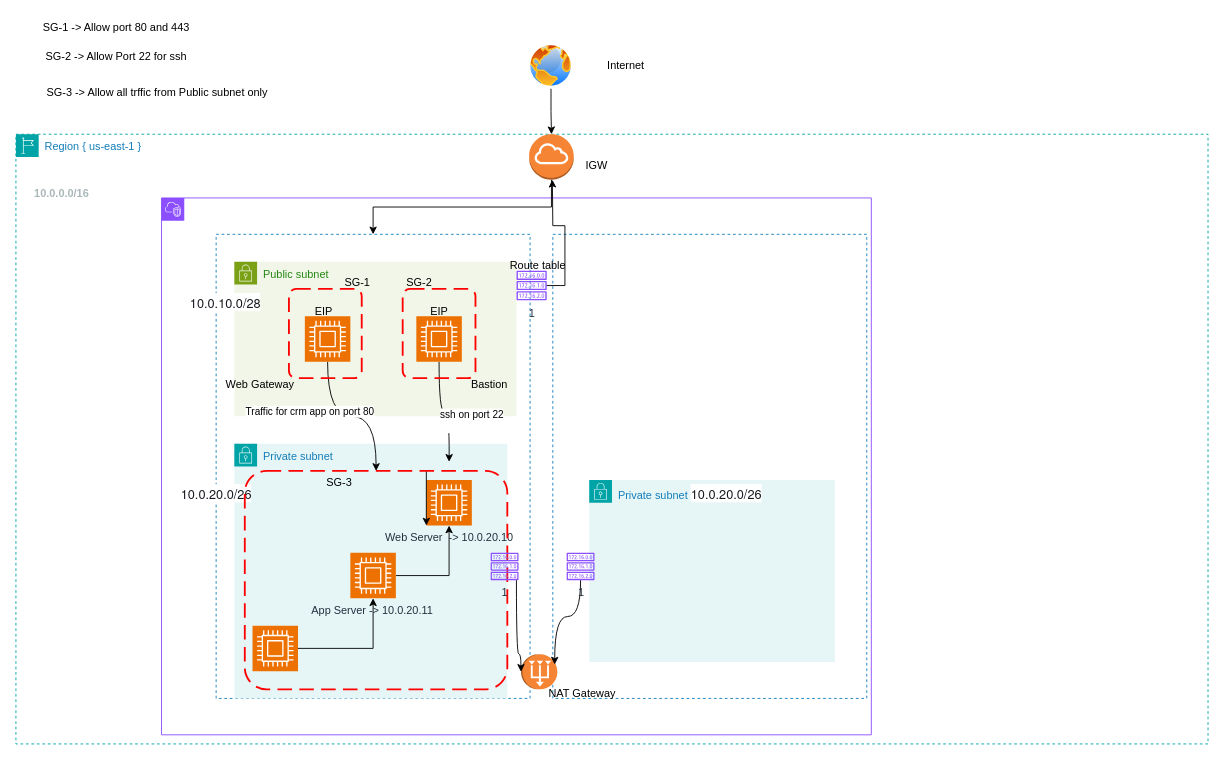
This 1224x760 diagram has some shape labels left out. The shapes that lost their labels are listed below. From the top down, each one's box as (x1, y1, x2, y2) in pixels, then its label:
(215, 233, 530, 698): AZ-1
(161, 197, 871, 735): VPC
(552, 233, 867, 698): AZ-2
(252, 625, 298, 671): DB Node -> 10.0.20.19
